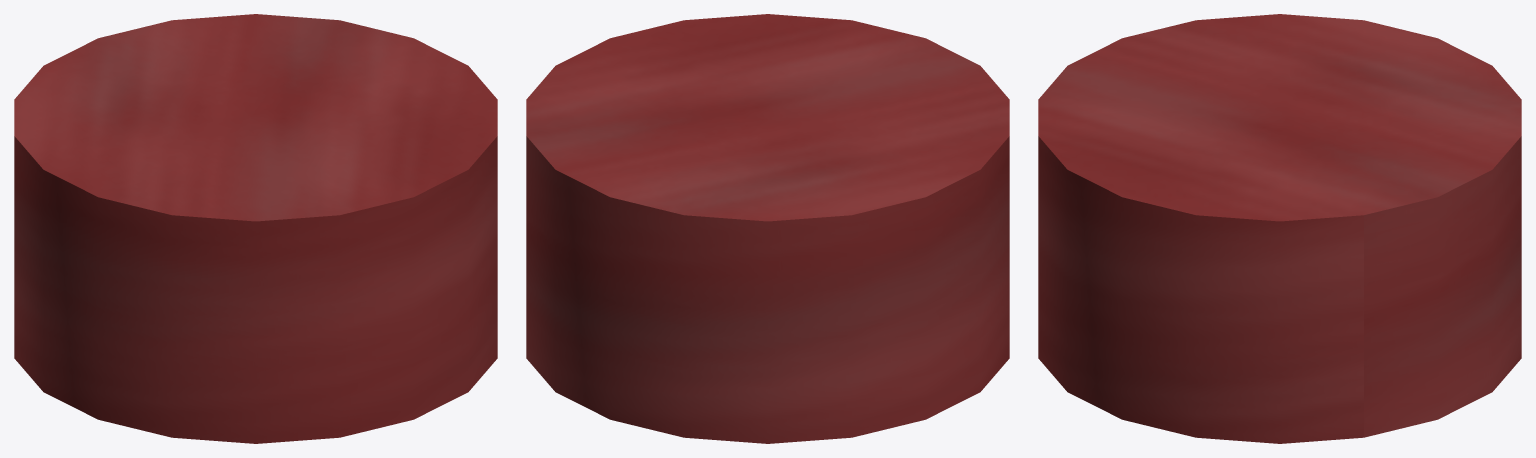
Rendered from steelCylinder.obj.
3 views of the same model, side by side, from view 1: azimuth 30°, elevation 25°; view 2: azimuth 150°, elevation 25°; view 3: azimuth 270°, elevation 25° (orthographic).
Parts seen in each view (by area): view 1: pCylinder12; view 2: pCylinder12; view 3: pCylinder12.
Boxes of the visible parts, left/top/right/bottom form: pCylinder12: left=14, top=14, right=497, bottom=443; pCylinder12: left=526, top=14, right=1009, bottom=443; pCylinder12: left=1038, top=14, right=1521, bottom=443.
Size of the model in its own units: 2 by 1 by 1.97.
1 material, 1 textured.
